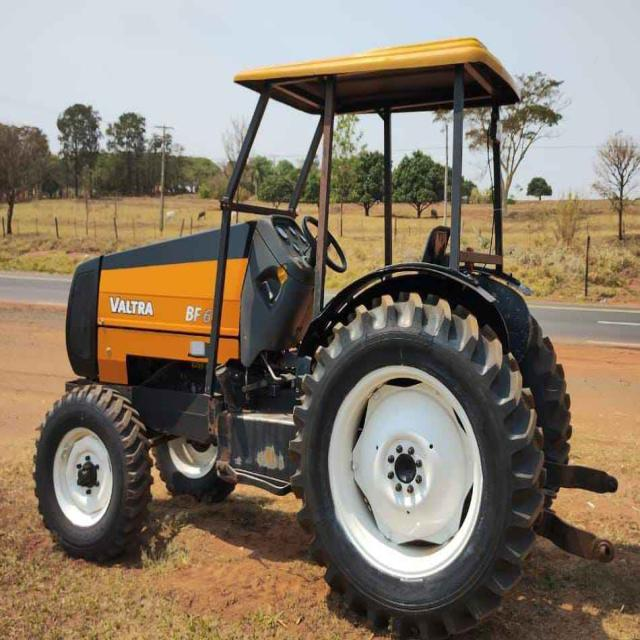Tratores - v5 YOLO V8L 2024-11-13: (31, 30, 598, 632)
